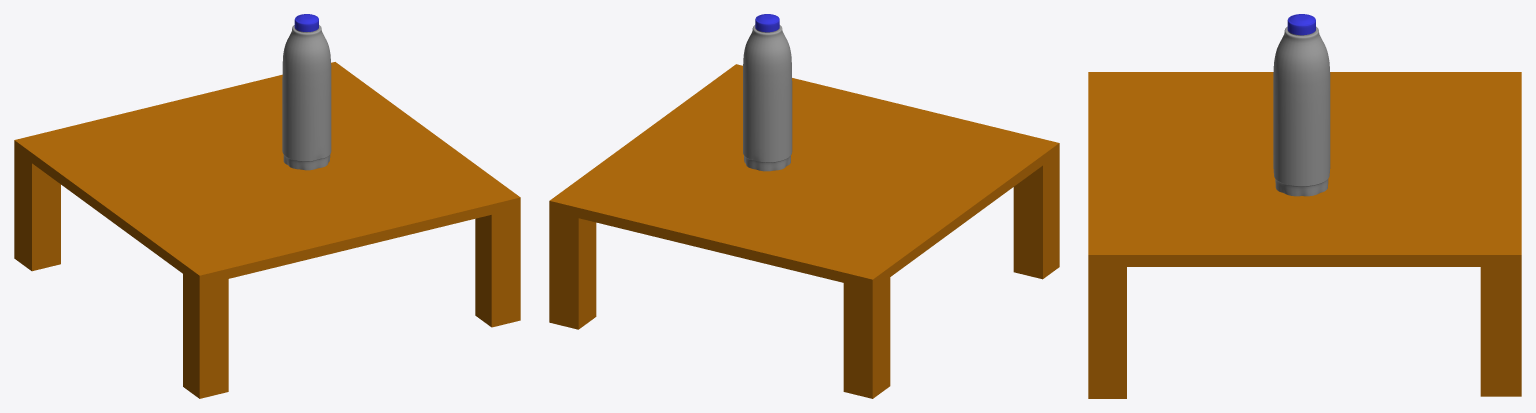
File: Bottle.fbx
3 renders of one model, left to right at view 1: azimuth 30°, elevation 25°; view 2: azimuth 150°, elevation 25°; view 3: azimuth 270°, elevation 25°, orthographic. The views are drawn at different scales.
Parts seen in each view (by area): view 1: Cube, Bottle; view 2: Cube, Bottle; view 3: Cube, Bottle.
Part boxes in pixels (bbox=[...]): Cube: bbox=[14, 62, 520, 398]; Bottle: bbox=[282, 14, 331, 170]; Cube: bbox=[549, 64, 1059, 398]; Bottle: bbox=[743, 14, 792, 171]; Cube: bbox=[1088, 72, 1521, 398]; Bottle: bbox=[1273, 14, 1330, 196].
Size of what is drawn, in the model's own units: 914 by 725 by 914.
